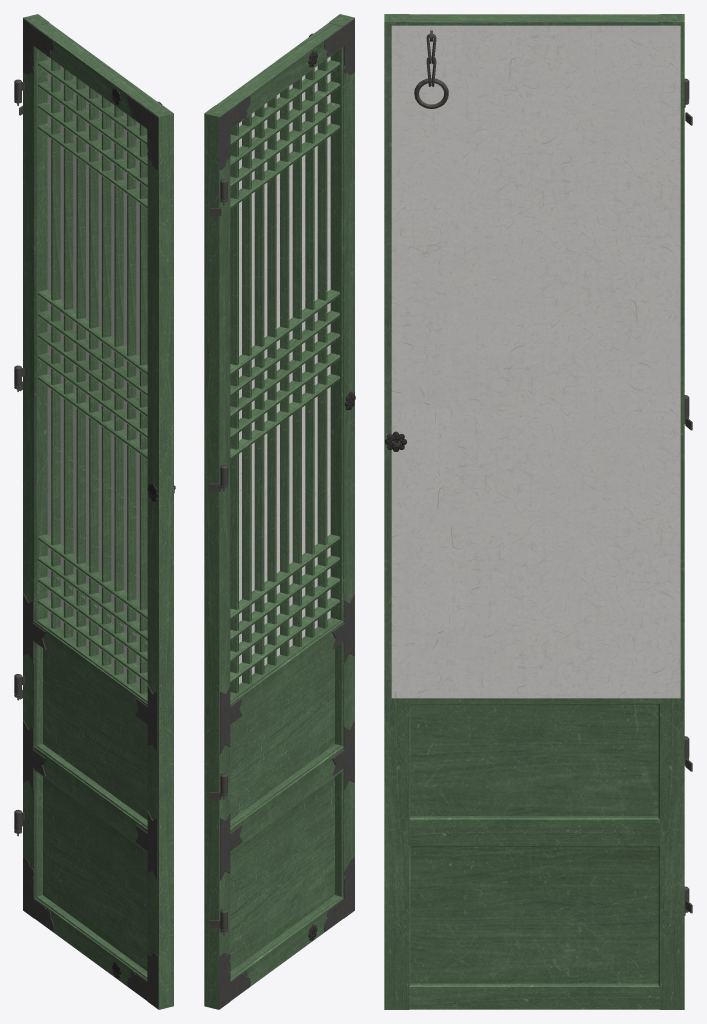
The model's file is SM_Door09H.fbx.
3 views of the same model, side by side, from view 1: azimuth 30°, elevation 25°; view 2: azimuth 150°, elevation 25°; view 3: azimuth 270°, elevation 25° (orthographic). The views are drawn at different scales.
Visible parts, largest first — view 1: SM_Door09H; view 2: SM_Door09H; view 3: SM_Door09H.
Part boxes in pixels (left/top/right/bottom): SM_Door09H: left=14, top=14, right=175, bottom=1009; SM_Door09H: left=204, top=14, right=355, bottom=1009; SM_Door09H: left=384, top=14, right=692, bottom=1009.
Bounding box in the file's own units: 12.05 × 88.53 × 313.
Materials: 1 (1 with a texture image).
